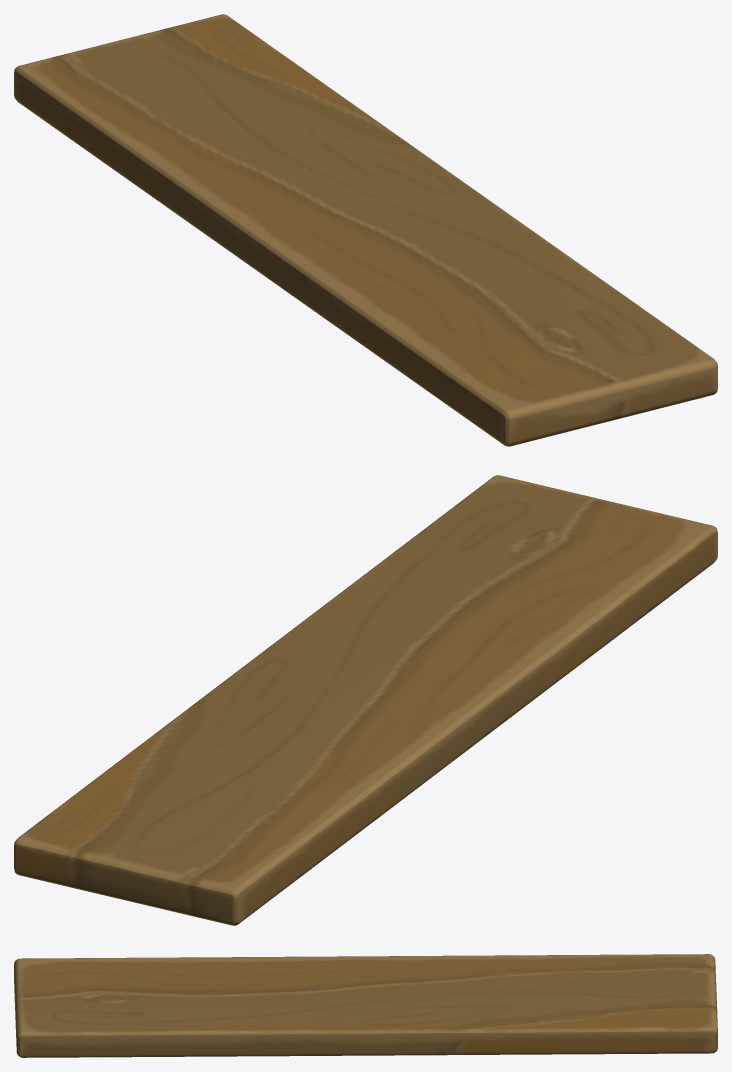
Rendered from Plank.fbx.
The picture shows the model from 3 angles, top to bottom: view 1: azimuth 30°, elevation 25°; view 2: azimuth 150°, elevation 25°; view 3: azimuth 270°, elevation 25°; orthographic projection. The views are drawn at different scales.
Visible parts, largest first — view 1: polySurface4; view 2: polySurface4; view 3: polySurface4.
Part boxes in pixels (box(x1,y1,x2,y2)): polySurface4: box(14, 14, 717, 446); polySurface4: box(14, 475, 717, 925); polySurface4: box(14, 954, 717, 1057).
Bounding box in the file's own units: 0.6945 × 0.1051 × 2.55.
